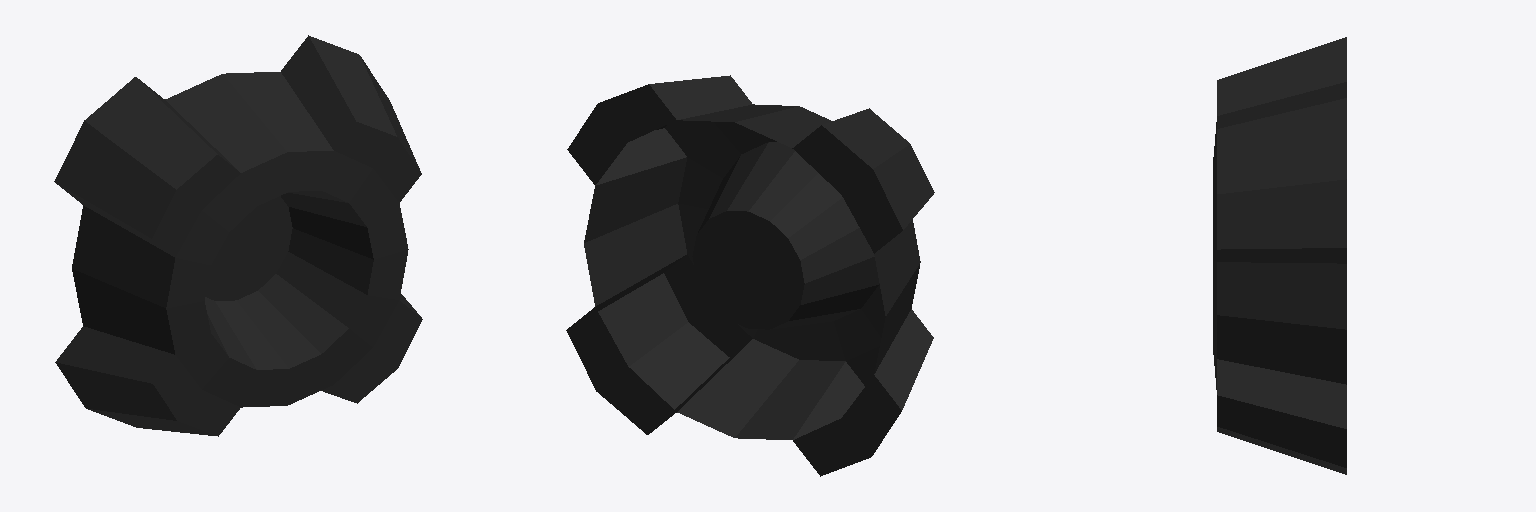
Rendered from Details_Output_Small.obj.
The picture shows the model from 3 angles: view 1: azimuth 30°, elevation 25°; view 2: azimuth 150°, elevation 25°; view 3: azimuth 270°, elevation 25°; orthographic projection.
Parts seen in each view (by area): view 1: Details_Output_Small_Cube.052; view 2: Details_Output_Small_Cube.052; view 3: Details_Output_Small_Cube.052.
Part boxes in pixels (left/top/right/bottom): Details_Output_Small_Cube.052: left=54, top=35, right=422, bottom=436; Details_Output_Small_Cube.052: left=566, top=75, right=934, bottom=476; Details_Output_Small_Cube.052: left=1213, top=37, right=1346, bottom=474.
Size of the model in its own units: 0.1584 by 0.1584 by 0.0542.